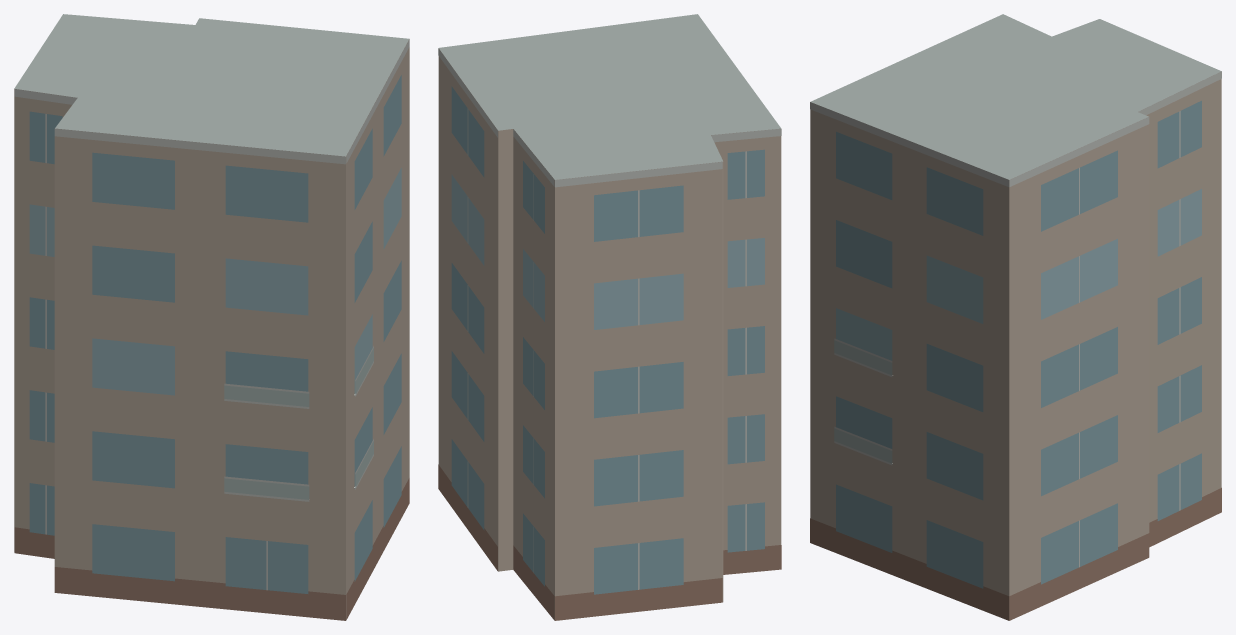
The model's file is survey-upis-32972913.glb.
3 renders of one model, left to right at view 1: azimuth 30°, elevation 25°; view 2: azimuth 150°, elevation 25°; view 3: azimuth 270°, elevation 25°, orthographic. The views are drawn at different scales.
Visible parts, largest first — view 1: survey-upis-32972913.tmp; view 2: survey-upis-32972913.tmp; view 3: survey-upis-32972913.tmp.
Part boxes in pixels (bbox=[...]): survey-upis-32972913.tmp: bbox=[14, 14, 409, 620]; survey-upis-32972913.tmp: bbox=[438, 14, 781, 620]; survey-upis-32972913.tmp: bbox=[810, 14, 1221, 620].
Bounding box in the file's own units: 11.67 × 14.45 × 12.23.
